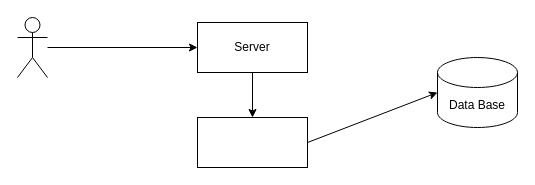
The diagram is 535 pixels wide and 185 high, and some of its shapes have lost their labels. Each missing label, with the box of its shape:
API: (196, 116, 308, 168)
User: (16, 16, 48, 78)
